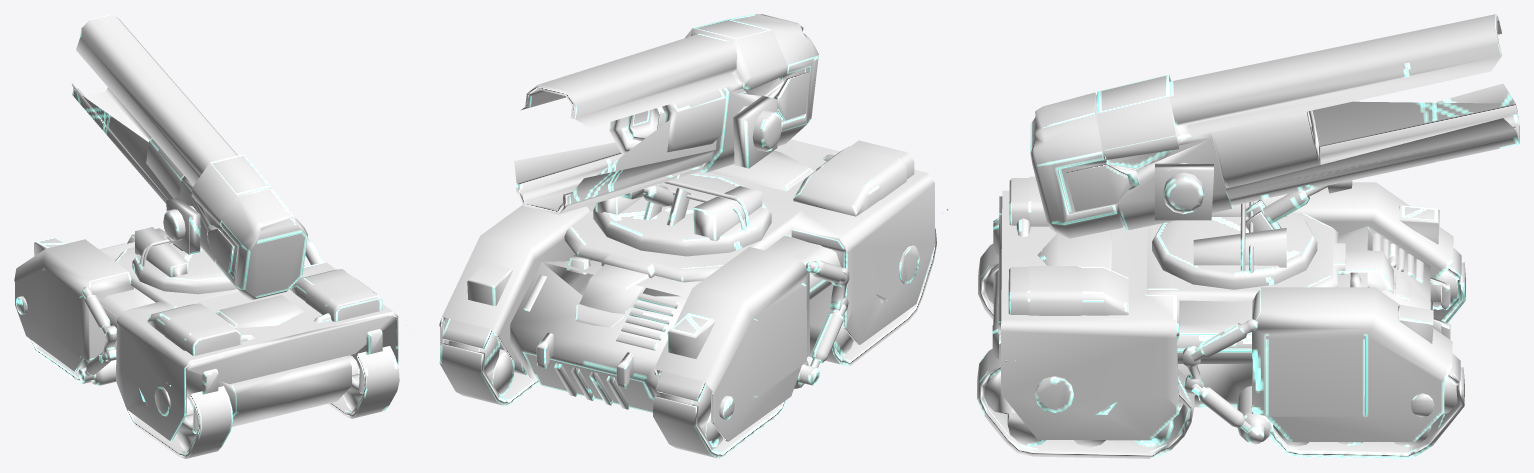
Rendered from catapulte_v3.glb.
The picture shows the model from 3 angles, left to right: view 1: azimuth 30°, elevation 25°; view 2: azimuth 150°, elevation 25°; view 3: azimuth 270°, elevation 25°; orthographic projection. The views are drawn at different scales.
Parts seen in each view (by area): view 1: catapulte_v3; view 2: catapulte_v3; view 3: catapulte_v3.
Part boxes in pixels (x1,y1,x2,y2): catapulte_v3: (14,14,410,458); catapulte_v3: (439,14,948,458); catapulte_v3: (977,14,1519,458).
Size of the model in its own units: 1.73 by 1.98 by 2.6.
Materials: 1 (1 with a texture image).
